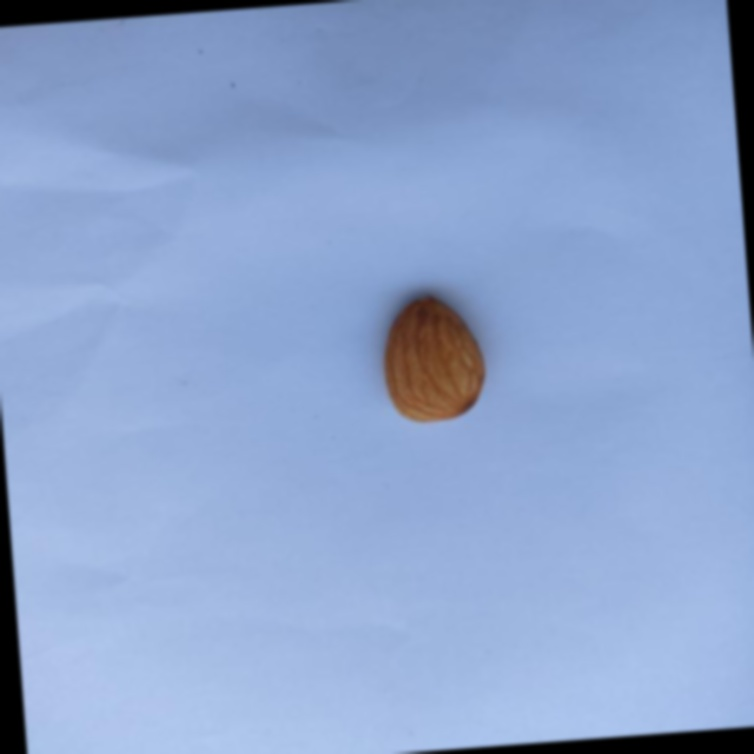grade1: (367, 282, 497, 434)
